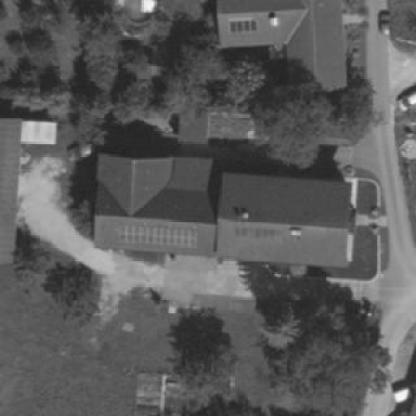solar-pv-panel: (119, 225, 197, 247), (234, 225, 281, 241), (230, 19, 258, 32)
